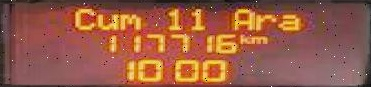0: (198, 56, 225, 81), (169, 57, 196, 81), (134, 57, 160, 81)
1: (187, 6, 205, 30), (165, 6, 183, 30), (123, 58, 134, 81), (129, 33, 140, 53), (105, 33, 116, 53), (203, 33, 214, 53)
6: (214, 33, 236, 53)
7: (167, 33, 189, 53), (143, 32, 165, 51)
X: (69, 6, 94, 30), (229, 6, 251, 30), (116, 12, 140, 30), (251, 13, 276, 29), (93, 13, 118, 29), (276, 13, 300, 29), (247, 34, 267, 43), (236, 34, 247, 44)
